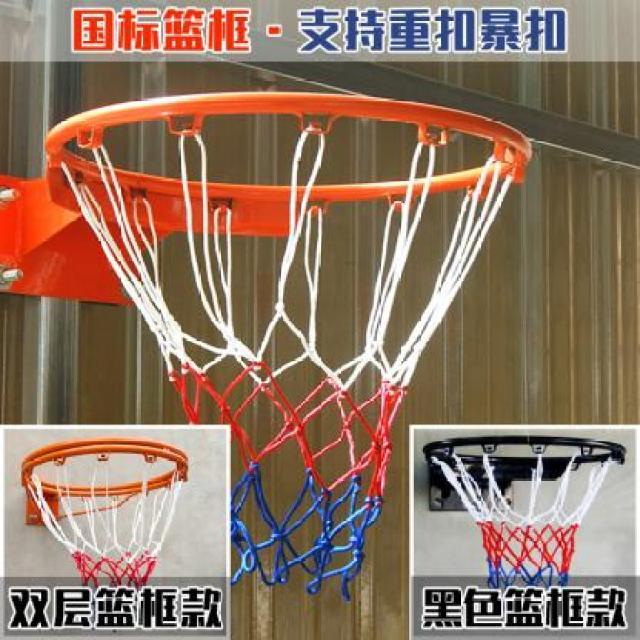rim: (44, 91, 524, 597), (425, 432, 627, 590), (22, 438, 190, 590)
